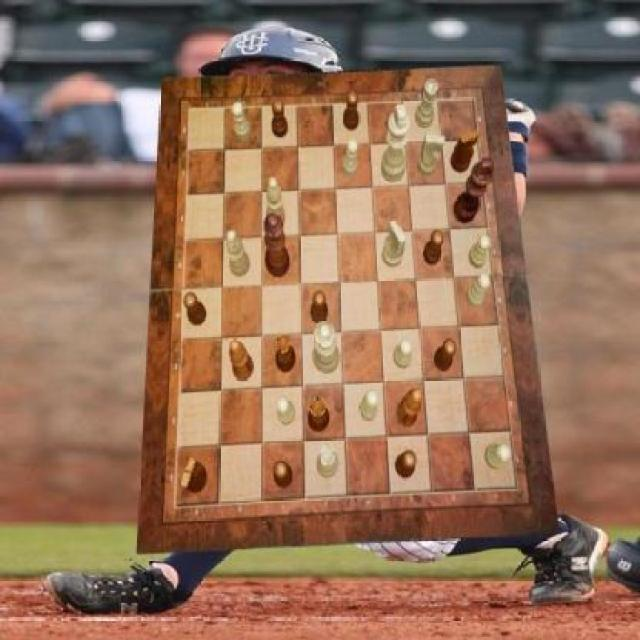bishop: (229, 338, 254, 381), (397, 388, 423, 426)
black-bishop: (454, 157, 494, 223)
black-king: (451, 130, 478, 174), (180, 457, 208, 493)
black-knight: (434, 338, 457, 372), (185, 292, 208, 326), (423, 230, 443, 266), (272, 100, 290, 138), (343, 91, 359, 131), (395, 451, 418, 478), (311, 289, 328, 324), (274, 460, 294, 488)
black-pawn: (264, 212, 290, 278)
black-queen: (277, 334, 297, 374), (308, 397, 330, 433)
black-rook: (226, 231, 250, 277), (266, 178, 286, 231)
white-bishop: (380, 103, 410, 182)
white-king: (417, 134, 445, 176), (383, 220, 406, 268)
white-knight: (466, 272, 491, 308), (232, 103, 252, 143), (469, 234, 492, 268), (343, 138, 360, 178), (484, 443, 510, 469), (360, 391, 380, 423), (394, 340, 413, 369), (276, 396, 294, 424)
white-pawn: (312, 320, 340, 374)
white-queen: (416, 80, 438, 129), (317, 445, 339, 479)
